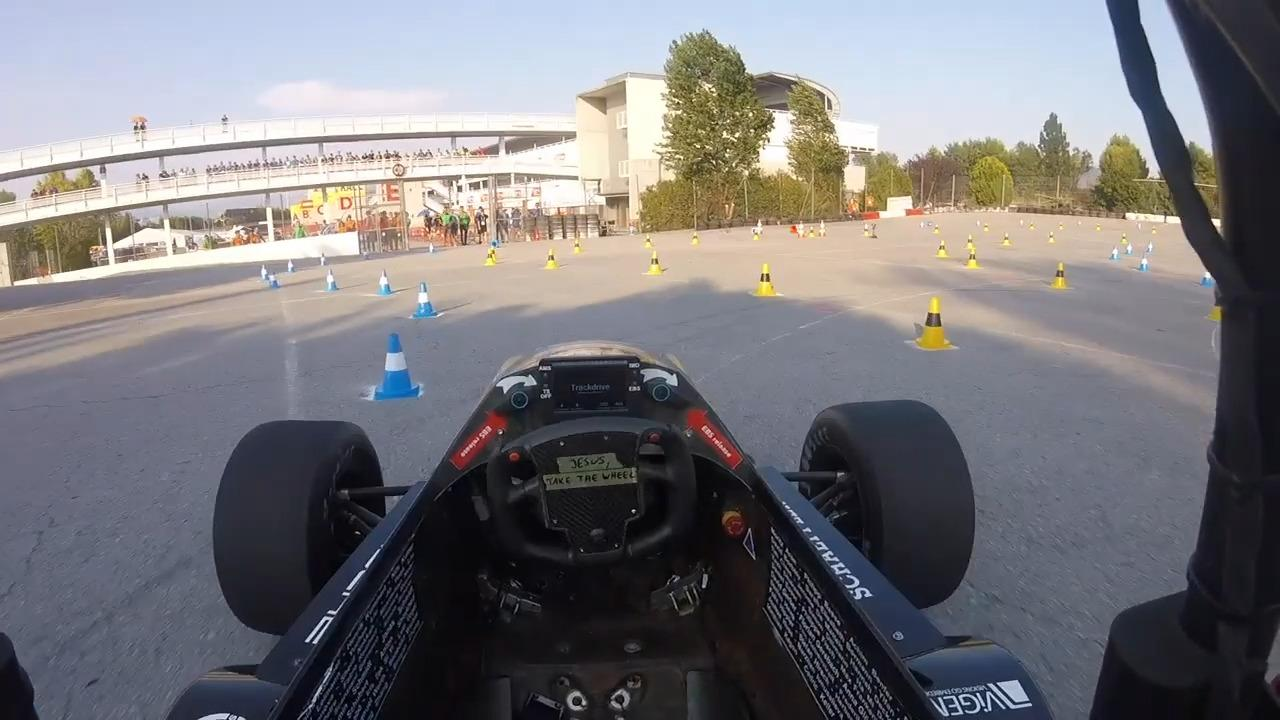blue_cone: (374, 333, 420, 402), (412, 281, 440, 318), (377, 270, 395, 297), (324, 269, 340, 293), (268, 271, 282, 291), (1137, 254, 1150, 272), (1109, 246, 1121, 261), (260, 266, 270, 282)
yellow_cone: (917, 299, 951, 350), (757, 266, 775, 298), (1051, 261, 1070, 291), (646, 250, 664, 277), (966, 251, 980, 271), (546, 249, 558, 271), (937, 240, 950, 258), (485, 250, 496, 268), (966, 234, 977, 251), (573, 239, 582, 254)
